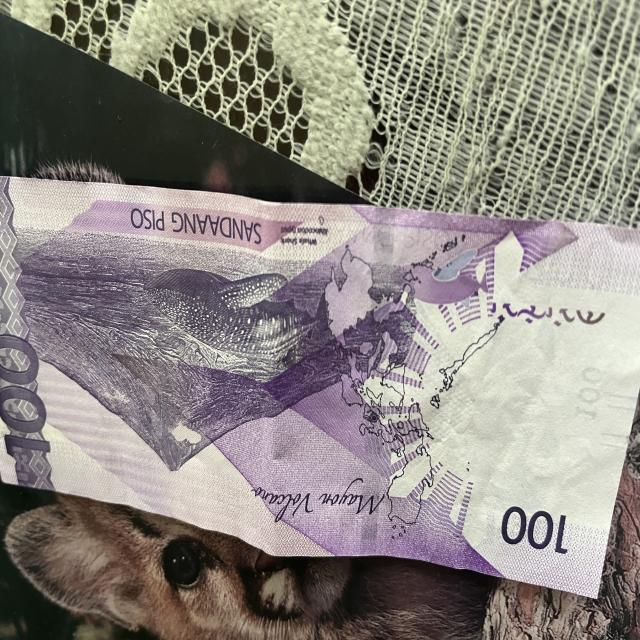security_thread: (365, 203, 416, 555)
value: (0, 307, 61, 466)
value_watermark: (573, 352, 606, 427)
watermark: (454, 322, 596, 519)
